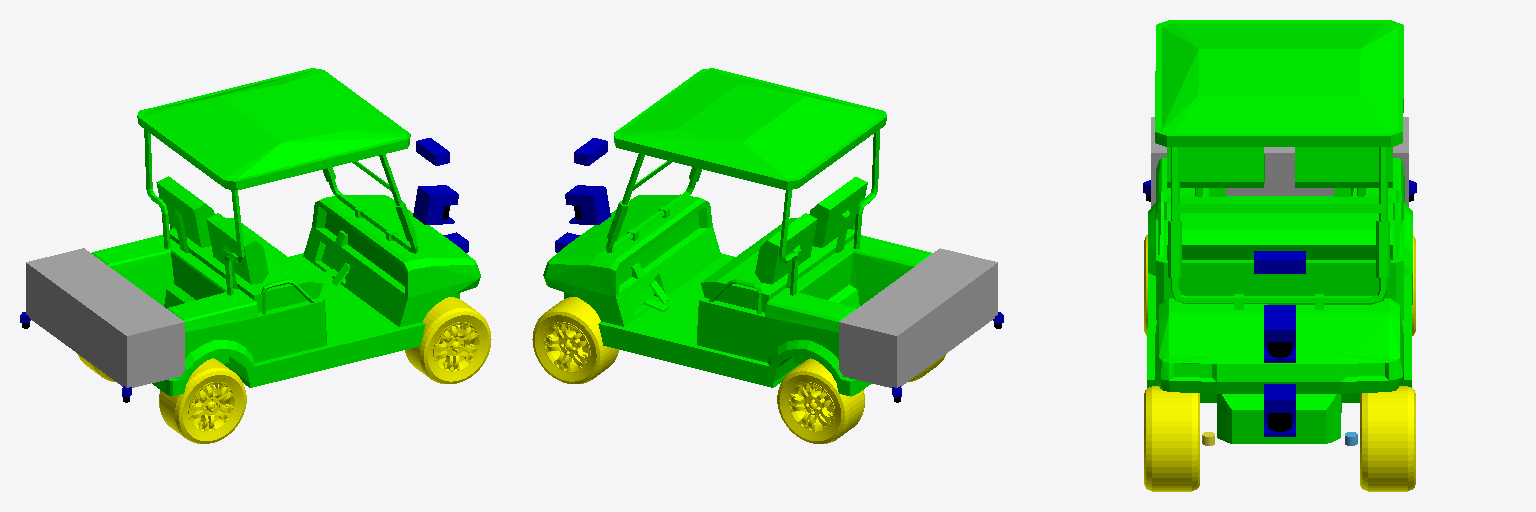
--- Render facts (derived) ---
The picture shows the robot from 3 angles, left to right: view 1: azimuth 30°, elevation 25°; view 2: azimuth 150°, elevation 25°; view 3: azimuth 270°, elevation 25°; orthographic projection.
Robot: CaRINA_I — 27 links, 26 joints (4 revolute, 4 continuous, 18 fixed); root link base_footprint; default pose: every joint at zero.
Links seen in each view (by area): view 1: chassis_1, box_link, front_right_wheel, back_right_wheel, sick_inclined_laser_box02_link, camera_base01_link; view 2: chassis_1, box_link, front_left_wheel, back_left_wheel, sick_inclined_laser_box02_link, camera_base01_link; view 3: chassis_1, front_left_wheel, front_right_wheel, box_link, camera_base01_link, sick_inclined_laser_box02_link, sick_parallel_laser_box02_link.
Boxes of the visible links, x1=… form: chassis_1: x1=91, y1=68, x2=480, y2=395; box_link: x1=26, y1=248, x2=184, y2=387; front_right_wheel: x1=405, y1=297, x2=491, y2=383; back_right_wheel: x1=159, y1=358, x2=246, y2=443; sick_inclined_laser_box02_link: x1=416, y1=185, x2=458, y2=206; camera_base01_link: x1=416, y1=138, x2=449, y2=165; chassis_1: x1=543, y1=68, x2=932, y2=396; box_link: x1=839, y1=248, x2=997, y2=387; front_left_wheel: x1=532, y1=297, x2=618, y2=383; back_left_wheel: x1=777, y1=358, x2=864, y2=443; sick_inclined_laser_box02_link: x1=565, y1=185, x2=607, y2=206; camera_base01_link: x1=574, y1=138, x2=607, y2=165; chassis_1: x1=1147, y1=20, x2=1412, y2=443; front_left_wheel: x1=1360, y1=386, x2=1415, y2=491; front_right_wheel: x1=1144, y1=386, x2=1199, y2=491; box_link: x1=1151, y1=117, x2=1408, y2=206; camera_base01_link: x1=1254, y1=251, x2=1305, y2=273; sick_inclined_laser_box02_link: x1=1264, y1=305, x2=1295, y2=341; sick_parallel_laser_box02_link: x1=1264, y1=384, x2=1295, y2=412.
Bounding box of the posed robot: 2.69 × 1.27 × 1.74 m (x, y, z).
5 mesh visuals loaded from 2 distinct referenced files (2 Collada DAE).

robot.urdf — CaRINA_I:
<?xml version="1.0" ?>

<robot
	name="CaRINA_I"
	xmlns:xi="http://www.w3.org/2001/XInclude"
	xmlns:gazebo="http://playerstage.sourceforge.net/gazebo/xmlschema/#gz"
	xmlns:model="http://playerstage.sourceforge.net/gazebo/xmlschema/#model"
	xmlns:sensor="http://playerstage.sourceforge.net/gazebo/xmlschema/#sensor"
	xmlns:body="http://playerstage.sourceforge.net/gazebo/xmlschema/#body"
	xmlns:geom="http://playerstage.sourceforge.net/gazebo/xmlschema/#geom"
	xmlns:joint="http://playerstage.sourceforge.net/gazebo/xmlschema/#joint"
	xmlns:interface="http://playerstage.sourceforge.net/gazebo/xmlschema/#interface"
	xmlns:rendering="http://playerstage.sourceforge.net/gazebo/xmlschema/#rendering"
	xmlns:renderable="http://playerstage.sourceforge.net/gazebo/xmlschema/#renderable"
	xmlns:controller="http://playerstage.sourceforge.net/gazebo/xmlschema/#controller"
	xmlns:physics="http://playerstage.sourceforge.net/gazebo/xmlschema/#physics"
>


	<!-- Included URDF Files -->
	<material name="Car">
		<color rgba="0.0 1.0 0.0 1.0" />
	<!-- 
		<texture filename="package://carina_description/meshes/collada/golfcar/tire.bmp" />
	 -->
	</material>
	<material name="Roda">
		<color rgba="1.0 1.0 0.0 1.0" />
	<!-- 
		<texture filename="package://carina_description/meshes/collada/golfcar/tire.bmp" />
	 -->
	</material>
	<material name="Black">
		<color rgba="0.0 0.0 0.0 1.0" />
	</material>
	<material name="Blue">
		<color rgba="0.0 0.0 0.8 1.0" />
	</material>
	<material name="Green">
		<color rgba="0.0 0.3 0.02 1.0" />
	</material>
	<material name="Grey">
		<color rgba="0.7 0.7 0.7 1.0" />
	</material>
	<material name="Grey2">
		<color rgba="0.2 0.2 0.2 1.0" />
	</material>
	<material name="Red">
		<color rgba="0.8 0.0 0.0 1.0" />
	</material>
	<material name="White">
		<color rgba="1.0 1.0 1.0 1.0" />
	</material>
	<material name="Yellow">
		<color rgba="0.299999 0.2777 0 1.0" />
	</material>

	<link name="base_footprint">
		<!-- 
		<inertial>
			<mass value="0.0001" />
			<origin xyz="0 0 0" />
			<inertia
				ixx="0.0001"
				ixy="0.0"
				ixz="0.0"
				iyy="0.0001"
				iyz="0.0"
				izz="0.0001" />
		</inertial>
		<visual>
			<origin
				rpy="0 0 0"
				xyz="0 0 0" />
			<geometry>
				<box size="0.001 0.001 0.001" />
			</geometry>
			<material name="Green" />
		</visual>
		<collision>
			<origin
				rpy="0 0 0"
				xyz="0 0 0.0" />
			<geometry>
				<box size="0.001 0.001 0.001" />
			</geometry>
		</collision>
		 -->
	</link>

	<link name="box_link">
		<inertial>
			<mass value="0.1" />
			<origin xyz="0 0 0.0" />
			<inertia
				ixx="0.1"
				ixy="0"
				ixz="0"
				iyy="0.1"
				iyz="0"
				izz="0.1" />
		</inertial>
		<visual>
			<origin
				rpy="0 0 0"
				xyz="0 0 0" />
			<geometry>
			<!-- 
				<mesh
					filename="package://carina_description/meshes/collada/golfcar/caixa.obj"
					scale="1 1 1" />
			-->
				<box size="0.4 1.2 0.35" />
			</geometry>
			<material name="Grey" />
		</visual>
		<collision>
			<origin
				rpy="0 0 0"
				xyz="0 0 0" />
			<geometry>
				<box size="0.4 1.2 0.35" />
			</geometry>
		</collision>
	</link>
	
	<joint
		name="base_link_box_joint"
		type="fixed"
	>
		<origin
			rpy="0 0 0"
			xyz="-1.05 0 -0.08" />
		<parent link="base_link" />
		<child link="box_link" />
	</joint>
	
	<link name="base_odometry">
	<!-- 
		<inertial>
			<mass value="0.0001" />
			<origin xyz="0 0 0" />
			<inertia
				ixx="0.0001"
				ixy="0.0"
				ixz="0.0"
				iyy="0.0001"
				iyz="0.0"
				izz="0.0001" />
		</inertial>
		<visual>
			<origin
				rpy="0 0 0"
				xyz="0 0 0" />
			<geometry>
				<box size="0.001 0.001 0.001" />
			</geometry>
			<material name="Green" />
		</visual>
		<collision>
			<origin
				rpy="0 0 0"
				xyz="0 0 0.0" />
			<geometry>
				<box size="0.001 0.001 0.001" />
			</geometry>
		</collision>
	 -->
	</link>

	<!-- encoder roda direita -->
	<joint
		name="base_odometry_joint"
		type="fixed"
	>
		<origin
			rpy="0 0 0"
			xyz="-0.67 0 -0.7" />
		<parent link="base_link" />
		<child link="base_odometry" />
	</joint>

	<joint
		name="base_footprint_joint"
		type="fixed"
	>
		<origin
			rpy="0 0 0"
			xyz="0 0 0.745" />
		<parent link="base_footprint" />
		<child link="base_link" />
	</joint>

	<!--CarinaBase -->
	<link name="base_link">
		<inertial>
			<mass value="0.001" />
			<origin xyz="0 0 0" />
			<inertia
				ixx="0.0001"
				ixy="0.0"
				ixz="0.0"
				iyy="0.0001"
				iyz="0.0"
				izz="0.0001" />
		</inertial>
		<!-- 
		<visual>
			<origin
				rpy="0 0 0"
				xyz="0 0 0" />
			<geometry>
				<box size="0.001 0.001 0.001" />
			</geometry>
			<material name="Green" />
		</visual>
		<collision>
			<origin
				rpy="0 0 0"
				xyz="0 0 0" />
			<geometry>
				<box size="0.001 0.001 0.001" />
			</geometry>
		</collision>
		 -->
	</link>

	<joint
		name="chassis_1_joint"
		type="fixed"
	>
		<origin
			xyz="0.15 0 0.28"
			rpy="0 0 0" />
		<parent link="base_link" />
		<child link="chassis_1" />
	</joint>

	<link name="chassis_1">
		<inertial>
			<mass value="20" />
			<origin xyz="0 0 0" />
			<inertia
				ixx="1.0"
				ixy="0.0"
				ixz="0.0"
				iyy="1.0"
				iyz="0.0"
				izz="1.0" />
		</inertial>

		<visual>
			<origin
				xyz="0 0 0"
				rpy="0 0 0" />
			<geometry>
				<mesh
					filename="package://carina_description/meshes/collada/golfcar/golfcar.dae"
					scale="0.85 0.9 0.85" />
			</geometry>
			<material name="Car" />
		</visual>

		<collision>
			<origin
				xyz="0 0 0"
				rpy="0 0 0" />
			<geometry>
				<mesh
					filename="package://carina_description/meshes/collada/golfcar/golfcar.dae"
					scale="0.85 0.9 0.85" />
			</geometry>
		</collision>
	</link>

	<!-- ################ WHEELS ################# -->

	<!-- DIRECTION BACK LEFT -->
	<!-- =========================== -->

	<link name="back_left_wheel_dir">
		<inertial>
			<mass value="0.1" />
			<!-- center of mass (com) is defined w.r.t. link local coord system -->
			<origin xyz="0 0 0" />
			<inertia
				ixx="0.01"
				ixy="0.0"
				ixz="0.0"
				iyy="0.01"
				iyz="0.0"
				izz="0.01" />
		</inertial>
		<visual>
			<origin
				xyz="0 0 0"
				rpy="0 0 0" />
			<geometry>
				<cylinder
					radius="0.03"
					length="0.045" />

			</geometry>
		</visual>
		<collision>		
			<origin
				xyz="0 0 0"
				rpy="0 0 0 " />
			<geometry>
				<cylinder
					radius="0.03"
					length="0.045" />
			</geometry>
		</collision>
	</link>

	<joint
		name="joint_back_left_wheel_dir"
		type="revolute"
	>
		<parent link="base_link" />
		<child link="back_left_wheel_dir" />
		<origin
			xyz="-0.67 0.33 -0.5"
			rpy="0 0 0" />
		<axis
			xyz="0 0 1"
			rpy="0 0 0" />
		<limit
			effort="3.0"
			velocity="3.0"
			lower="-0.0"
			upper="0.0" />
	</joint>

	<transmission
		name="joint_blw_trans_dir"
		type="pr2_mechanism_model/SimpleTransmission"
	>
		<actuator name="joint_blw_motor_dir" />
		<joint name="joint_back_left_wheel_dir" />
		<mechanicalReduction>1</mechanicalReduction>
		<motorTorqueConstant>1</motorTorqueConstant>
	</transmission>

	<!-- BACK LEFT WHEEL -->
	<link name="back_left_wheel">
		<inertial>
			<mass value="5.0" />
			<origin xyz="0 0 0" />
			<inertia
				ixx="0.0027"
				ixy="0.0"
				ixz="0.0"
				iyy="0.0039"
				iyz="0.0"
				izz="0.0027" />
		</inertial>
		<visual>

			<origin
				xyz="0 0 0"
				rpy="0 0 3.14159" />
			<geometry>
				<!-- 
				<mesh
					filename="package://carina_description/meshes/collada/golfcar/wheel.stl"
					scale="2.6 2 2.6" />
				-->
				<mesh
					filename="package://carina_description/meshes/collada/golfcar/roda.dae"
					scale="0.63 0.88 0.63" />
			</geometry>
			<material name="Roda" />
		</visual>
		<collision>
			<origin
				xyz="0 -0.075 0"
				rpy="1.57 0 0 " />
			<geometry>
				<cylinder
					radius="0.24"
					length="0.24" />
			</geometry>
		</collision>
	</link>

	<joint
		name="joint_back_left_wheel"
		type="continuous"
	>
		<parent link="back_left_wheel_dir" />
		<child link="back_left_wheel" />
		<origin
			xyz="0.0 0.17 0"
			rpy="0 0 0" />
		<axis
			xyz="0 1 0"
			rpy="0 0 0" />
		<limit
			effort="100"
			velocity="100" />
		<joint_properties
			damping="0.0"
			friction="0.0" />
	</joint>

	<transmission
		name="joint_blw_trans"
		type="pr2_mechanism_model/SimpleTransmission"
	>
		<actuator name="joint_blw_motor" />
		<joint name="joint_back_left_wheel" />
		<mechanicalReduction>1</mechanicalReduction>
		<motorTorqueConstant>1</motorTorqueConstant>
	</transmission>

	<!-- DIRECTION BACK RIGHT -->
	<!-- =========================== -->

	<link name="back_right_wheel_dir">
		<inertial>
			<mass value="0.1" />
			<origin xyz="0 0 0" />
			<inertia
				ixx="0.01"
				ixy="0.0"
				ixz="0.0"
				iyy="0.01"
				iyz="0.0"
				izz="0.01" />
		</inertial>
		<visual>
			<cylinder
				radius="0.03"
				length="0.045" />

			<geometry>
				<cylinder
					radius="0.03"
					length="0.045" />

			</geometry>
		</visual>
		<collision>
			<origin
				xyz="0 0 0"
				rpy="0 0 0 " />
			<geometry>
				<cylinder
					radius="0.03"
					length="0.045" />
			</geometry>
		</collision>
	</link>

	<joint
		name="joint_back_right_wheel_dir"
		type="revolute"
	>
		<parent link="base_link" />
		<child link="back_right_wheel_dir" />
		<origin
			xyz="-0.67 -0.33 -0.5"
			rpy="0 0 0" />
		<axis
			xyz="0 0 1"
			rpy="0 0 0" />
		<limit
			effort="3.0"
			velocity="3.0"
			lower="-0.0"
			upper="0.0" />
	</joint>

	<transmission
		name="joint_brw_trans_dir"
		type="pr2_mechanism_model/SimpleTransmission"
	>
		<actuator name="joint_brw_motor_dir" />
		<joint name="joint_back_right_wheel_dir" />
		<mechanicalReduction>1</mechanicalReduction>
		<motorTorqueConstant>1</motorTorqueConstant>
	</transmission>

	<!-- BACK RIGHT WHEEL -->
	<link name="back_right_wheel">
		<inertial>
			<mass value="5.0" />
			<origin xyz="0 0 0" />
			<inertia
				ixx="0.0027"
				ixy="0.0"
				ixz="0.0"
				iyy="0.0039"
				iyz="0.0"
				izz="0.0027" />
		</inertial>
		<visual>
			<origin
				xyz="0 0 0"
				rpy="0 0 0" />
			<geometry>
				<!-- 
				<cylinder
					radius="0.24"
					length="0.10" />
				<mesh filename="package://carina_description/meshes/collada/golfcar/wheel.stl" scale="2.6 2 2.6"/> 
				-->
				<mesh
					filename="package://carina_description/meshes/collada/golfcar/roda.dae"
					scale="0.63 0.88 0.63" />
			</geometry>
			<material name="Roda" />
		</visual>
		<collision>
			<origin
				xyz="0 0.075 0"
				rpy="1.57 0 0 " />
			<geometry>
				<cylinder
					radius="0.24"
					length="0.24" />
			</geometry>
		</collision>
	</link>

	<joint
		name="joint_back_right_wheel"
		type="continuous"
	>
		<parent link="back_right_wheel_dir" />
		<child link="back_right_wheel" />
		<origin
			xyz="0.0 -0.17 0"
			rpy="0 0 0" />
		<axis
			xyz="0 1 0"
			rpy="0 0 0" />
		<limit
			effort="100"
			velocity="100" />
		<joint_properties
			damping="0.0"
			friction="0.0" />
	</joint>

	<transmission
		name="joint_brw_trans"
		type="pr2_mechanism_model/SimpleTransmission"
	>
		<actuator name="joint_brw_motor" />
		<joint name="joint_back_right_wheel" />
		<mechanicalReduction>1</mechanicalReduction>
		<motorTorqueConstant>1</motorTorqueConstant>
	</transmission>

	<!-- DIRECTION FORWARD LEFT -->
	<!-- =========================== -->

	<link name="front_left_wheel_dir">
		<inertial>
			<mass value="0.1" />
			<origin xyz="0 0 0" />
			<inertia
				ixx="0.01"
				ixy="0.0"
				ixz="0.0"
				iyy="0.01"
				iyz="0.0"
				izz="0.01" />
		</inertial>
		<visual>
			<origin
				xyz="0 0 0"
				rpy="0 0 0" />
			<geometry>
				<cylinder
					radius="0.03"
					length="0.045" />
			</geometry>
		</visual>
		<collision>
			<origin
				xyz="0 0 0"
				rpy="0 0 0 " />
			<geometry>
				<cylinder
					radius="0.03"
					length="0.045" />
				>
			</geometry>
		</collision>
	</link>

	<joint
		name="joint_front_left_wheel_dir"
		type="revolute"
	>
		<parent link="base_link" />
		<child link="front_left_wheel_dir" />
		<origin
			xyz="1.01 0.33 -0.5"
			rpy="0 0 0" />
		<axis
			xyz="0 0 1"
			rpy="0 0 0" />
		<limit
			effort="3.0"
			velocity="3.0"
			lower="-0.5233"
			upper="0.5233" />
	</joint>

	<transmission
		name="joint_flw_trans_dir"
		type="pr2_mechanism_model/SimpleTransmission"
	>
		<actuator name="joint_flw_motor_dir" />
		<joint name="joint_front_left_wheel_dir" />
		<mechanicalReduction>1</mechanicalReduction>
		<motorTorqueConstant>1</motorTorqueConstant>
	</transmission>

	<!-- FRONT LEFT WHEEL (GREY) -->
	<link name="front_left_wheel">

		<inertial>
			<mass value="5.0" />
			<origin xyz="0 0 0" />

			<inertia
				ixx="0.0027"
				ixy="0.0"
				ixz="0.0"
				iyy="0.0039"
				iyz="0.0"
				izz="0.0027" />
		</inertial>
		<visual>
			<origin
				xyz="0 0 0"
				rpy="0 0 3.14159" />
			<geometry>
				<!-- <cylinder radius="0.24" length="0.24"/> 
				<mesh
					filename="package://carina_description/meshes/collada/golfcar/wheel.stl"
					scale="2.6 2 2.6" />
				-->
				<mesh
					filename="package://carina_description/meshes/collada/golfcar/roda.dae"
					scale="0.63 0.88 0.63" />
			</geometry>
			<material name="Roda" />
		</visual>
		<collision>
			<origin
				xyz="0 -0.075 0"
				rpy="1.57 0 0 " />
			<geometry>
				<cylinder
					radius="0.24"
					length="0.24" />
			</geometry>
		</collision>

	</link>

	<joint
		name="joint_front_left_wheel"
		type="continuous"
	>
		<parent link="front_left_wheel_dir" />
		<child link="front_left_wheel" />
		<origin
			xyz="0.0 0.17 0.0"
			rpy="0 0 0" />
		<axis xyz="0 1 0" />
		<limit
			effort="100"
			velocity="100" />
		<joint_properties
			damping="0.0"
			friction="0.0" />
	</joint>

	<transmission
		name="joint_flw_trans"
		type="pr2_mechanism_model/SimpleTransmission"
	>
		<actuator name="joint_flw_motor" />
		<joint name="joint_front_left_wheel" />
		<mechanicalReduction>1</mechanicalReduction>
		<motorTorqueConstant>1</motorTorqueConstant>
	</transmission>

	<!-- DIRECTION FORWARD RIGHT -->
	<!-- =========================== -->

	<!-- <link name="front_right_wheel_dir"> -->
	<link name="front_right_wheel_dir">

		<inertial>
			<mass value="0.1" />
			<origin xyz="0 0 0" />
			<inertia
				ixx="0.01"
				ixy="0.0"
				ixz="0.0"
				iyy="0.01"
				iyz="0.0"
				izz="0.01" />
		</inertial>
		<visual>
			<origin
				xyz="0 0 0"
				rpy="0 0 0" />
			<geometry>
				<cylinder
					radius="0.03"
					length="0.045" />
			</geometry>
		</visual>
		<collision>
			<origin
				xyz="0 0 0"
				rpy="0 0 0 " />
			<geometry>
				<cylinder
					radius="0.03"
					length="0.045" />
			</geometry>
		</collision>
	</link>

	<joint
		name="joint_front_right_wheel_dir"
		type="revolute"
	>
		<parent link="base_link" />
		<child link="front_right_wheel_dir" />
		<origin
			xyz="1.01 -0.33 -0.5"
			rpy="0 0 0" />
		<axis xyz="0 0 1" />
		<limit
			effort="3.0"
			velocity="3.0"
			lower="-0.5233"
			upper="0.5233" />
	</joint>

	<transmission
		name="joint_frw_trans_dir"
		type="pr2_mechanism_model/SimpleTransmission"
	>
		<actuator name="joint_frw_motor_dir" />
		<joint name="joint_front_right_wheel_dir" />
		<mechanicalReduction>1</mechanicalReduction>
		<motorTorqueConstant>1</motorTorqueConstant>
	</transmission>

	<!-- FRONT RIGHT WHEEL (GREY) -->
	<link name="front_right_wheel">

		<inertial>
			<mass value="5.0" />
			<origin xyz="0 0 0" />
			<inertia
				ixx="0.0027"
				ixy="0.0"
				ixz="0.0"
				iyy="0.0039"
				iyz="0.0"
				izz="0.0027" />
		</inertial>
		<visual>
			<origin
				xyz="0 0 0"
				rpy="0 0 0" />
			<geometry>
				<!-- <cylinder radius="0.24" length="0.24"/> -->
				<!-- 
				<mesh
					filename="package://carina_description/meshes/collada/golfcar/wheel.stl"
					scale="2.6 2 2.6" />
				<mesh
					filename="package://carina_description/meshes/collada/golfcar/rodinha.dae"
					scale="1 1 1" />
				 -->
				 <mesh
					filename="package://carina_description/meshes/collada/golfcar/roda.dae"
					scale="0.63 0.88 0.63" />
			</geometry>
			<material name="Roda" />
		</visual>
		<collision>
			<origin
				xyz="0 0.075 0"
				rpy="1.57 0 0" />
			<geometry>
				<cylinder
					radius="0.24"
					length="0.24" />
			</geometry>
		</collision>
	</link>

	<joint
		name="joint_front_right_wheel"
		type="continuous"
	>
		<parent link="front_right_wheel_dir" />
		<child link="front_right_wheel" />
		<origin
			xyz="0.0 -0.17 0.0"
			rpy="0 0 0" />
		<axis xyz="0 1 0" />
		<limit
			effort="100"
			velocity="100" />
		<joint_properties
			damping="0.0"
			friction="0.0" />
	</joint>

	<transmission
		name="joint_frw_trans"
		type="pr2_mechanism_model/SimpleTransmission"
	>
		<actuator name="joint_frw_motor" />
		<joint name="joint_front_right_wheel" />
		<mechanicalReduction>1</mechanicalReduction>
		<motorTorqueConstant>1</motorTorqueConstant>
	</transmission>

	<!-- LASERS -->
	<!-- SICK SENSOR PARALLEL -->

	<joint
		name="sick_parallel_laser_joint"
		type="fixed"
	>
		<axis xyz="0 1 0" />
		<origin
			rpy="0 0 0"
			xyz="1.34 0 -0.24" />
		<parent link="base_link" />
		<child link="sick_parallel_laser_link" />
	</joint>

	<link
		name="sick_parallel_laser_link"
		type="laser"
	>
		<inertial>
			<mass value="0.001" />
			<origin
				xyz="0 0 0"
				rpy="0 0 0" />
			<inertia
				ixx="0.0001"
				ixy="0"
				ixz="0"
				iyy="0.000001"
				iyz="0"
				izz="0.0001" />
		</inertial>

		<visual>
			<origin
				rpy="0 0 0"
				xyz="0.0 0 0" />
			<geometry>
				<cylinder
					length="0.12"
					radius="0.055" />
			</geometry>
			<material name="Black" />
		</visual>
		<collision>
			<origin
				rpy="0 0 0"
				xyz="0.0 0 0" />
			<geometry>
				<cylinder
					length="0.0"
					radius="0.0" />
			</geometry>
		</collision>
	</link>

	<joint
		name="sick_parallel_laser_box_joint"
		type="fixed"
	>
		<origin
			rpy="0 0 0"
			xyz="-0.08 0 0" />
		<parent link="sick_parallel_laser_link" />
		<child link="sick_parallel_laser_box01_link" />
	</joint>

	<link
		name="sick_parallel_laser_box01_link"
		type="fixed"
	>
		<inertial>
			<mass value="0.1" />
			<origin xyz="0 0 0.0" />
			<inertia
				ixx="0.1"
				ixy="0"
				ixz="0"
				iyy="0.1"
				iyz="0"
				izz="0.1" />
		</inertial>
		<visual>
			<origin
				rpy="0 0 0"
				xyz="0 0 0" />
			<geometry>
				<box size="0.11 0.15 0.11" />
			</geometry>
			<material name="Blue" />
		</visual>
		<collision>
			<origin
				rpy="0 0 0"
				xyz="0 0 0" />
			<geometry>
				<box size="0.11 0.15 0.11" />
			</geometry>
		</collision>
	</link>

	<joint
		name="spl_box01_box02_joint"
		type="fixed"
	>
		<origin
			rpy="0 0 0"
			xyz="0 0 0" />
		<parent link="sick_parallel_laser_box01_link" />
		<child link="sick_parallel_laser_box02_link" />
	</joint>

	<link
		name="sick_parallel_laser_box02_link"
		type="fixed"
	>
		<inertial>
			<mass value="0.1" />
			<origin xyz="0 0 0.0" />
			<inertia
				ixx="0.1"
				ixy="0"
				ixz="0"
				iyy="0.1"
				iyz="0"
				izz="0.1" />
		</inertial>
		<visual>
			<origin
				rpy="0 0 0"
				xyz="0.045 0 0.09" />
			<geometry>
				<box size="0.2 0.15 0.07" />
			</geometry>
			<material name="Blue" />
		</visual>

		<collision>
			<origin
				rpy="0 0 0"
				xyz="0.045 0 0.09" />
			<geometry>
				<box size="0.2 0.15 0.07" />
			</geometry>
		</collision>
	</link>

	<joint
		name="spl_box01_box03_joint"
		type="fixed"
	>
		<origin
			rpy="0 0 0"
			xyz="0 0 0" />
		<parent link="sick_parallel_laser_box01_link" />
		<child link="sick_parallel_laser_box03_link" />
	</joint>

	<link
		name="sick_parallel_laser_box03_link"
		type="fixed"
	>
		<inertial>
			<mass value="0.1" />
			<origin xyz="0 0 0.0" />
			<inertia
				ixx="0.1"
				ixy="0"
				ixz="0"
				iyy="0.1"
				iyz="0"
				izz="0.1" />
		</inertial>
		<visual>
			<origin
				rpy="0 0 0"
				xyz="0.045 0 -0.055" />
			<geometry>
				<box size="0.2 0.15 0.02" />
			</geometry>
			<material name="Blue" />
		</visual>

		<collision>
			<origin
				rpy="0 0 0"
				xyz="0.045 0 -0.055" />
			<geometry>
				<box size="0.2 0.15 0.02" />
			</geometry>
		</collision>
	</link>

	<!-- SICK SENSOR INCLINED -->

	<joint
		name="sick_inclined_laser_joint"
		type="fixed"
	>
		<axis xyz="0 1 0" />
		<origin
			rpy="0 0.18 0"
			xyz="1.25 0 0.1" />
		<parent link="base_link" />
		<child link="sick_inclined_laser_link" />
	</joint>

	<link
		name="sick_inclined_laser_link"
		type="laser"
	>
		<inertial>
			<mass value="0.001" />
			<origin
				xyz="0 0 0"
				rpy="0 0 0" />
			<inertia
				ixx="0.0001"
				ixy="0"
				ixz="0"
				iyy="0.000001"
				iyz="0"
				izz="0.0001" />
		</inertial>

		<visual>
			<origin
				rpy="0 0 0"
				xyz="0.0 0 0" />
			<geometry>
				<cylinder
					length="0.12"
					radius="0.055" />
			</geometry>
			<material name="Black" />
		</visual>
		<collision>
			<origin
				rpy="0 0 0"
				xyz="0.0 0 0" />
			<geometry>
				<cylinder
					length="0.0"
					radius="0.0" />
			</geometry>
		</collision>

	</link>

	<joint
		name="sick_inclined_laser_box_joint"
		type="fixed"
	>
		<origin
			rpy="0 0 0"
			xyz="-0.08 0 0" />
		<parent link="sick_inclined_laser_link" />
		<child link="sick_inclined_laser_box01_link" />
	</joint>

	<link
		name="sick_inclined_laser_box01_link"
		type="fixed"
	>
		<inertial>
			<mass value="0.1" />
			<origin xyz="0 0 0.0" />
			<inertia
				ixx="0.1"
				ixy="0"
				ixz="0"
				iyy="0.1"
				iyz="0"
				izz="0.1" />
		</inertial>
		<visual>
			<origin
				rpy="0 0 0"
				xyz="0 0 0" />
			<geometry>
				<box size="0.11 0.15 0.11" />
			</geometry>
			<material name="Blue" />
		</visual>
		<collision>
			<origin
				rpy="0 0 0"
				xyz="0 0 0" />
			<geometry>
				<box size="0.11 0.15 0.11" />
			</geometry>
		</collision>
	</link>

	<joint
		name="sil_box01_box02_joint"
		type="fixed"
	>
		<origin
			rpy="0 0 0"
			xyz="0 0 0" />
		<parent link="sick_inclined_laser_box01_link" />
		<child link="sick_inclined_laser_box02_link" />
	</joint>

	<link
		name="sick_inclined_laser_box02_link"
		type="fixed"
	>
		<inertial>
			<mass value="0.1" />
			<origin xyz="0 0 0.0" />
			<inertia
				ixx="0.1"
				ixy="0"
				ixz="0"
				iyy="0.1"
				iyz="0"
				izz="0.1" />
		</inertial>
		<visual>
			<origin
				rpy="0 0 0"
				xyz="0.045 0 0.09" />
			<geometry>
				<box size="0.2 0.15 0.07" />
			</geometry>
			<material name="Blue" />
		</visual>

		<collision>
			<origin
				rpy="0 0 0"
				xyz="0.045 0 0.09" />
			<geometry>
				<box size="0.2 0.15 0.07" />
			</geometry>
		</collision>
	</link>

	<joint
		name="sil_box01_box03_joint"
		type="fixed"
	>
		<origin
			rpy="0 0 0"
			xyz="0 0 0" />
		<parent link="sick_inclined_laser_box01_link" />
		<child link="sick_inclined_laser_box03_link" />
	</joint>

	<link
		name="sick_inclined_laser_box03_link"
		type="fixed"
	>
		<inertial>
			<mass value="0.1" />
			<origin xyz="0 0 0.0" />
			<inertia
				ixx="0.1"
				ixy="0"
				ixz="0"
				iyy="0.1"
				iyz="0"
				izz="0.1" />
		</inertial>
		<visual>
			<origin
				rpy="0 0 0"
				xyz="0.045 0 -0.055" />
			<geometry>
				<box size="0.2 0.15 0.02" />
			</geometry>
			<material name="Blue" />
		</visual>

		<collision>
			<origin
				rpy="0 0 0"
				xyz="0.045 0 -0.055" />
			<geometry>
				<box size="0.2 0.15 0.02" />
			</geometry>
		</collision>
	</link>

	<!-- HOKUYO SENSOR RIGHT -->

	<joint
		name="hokuyo_laser_right_joint"
		type="fixed"
	>
		<axis xyz="0 1 0" />
		<origin
			rpy="3.14 0 -2.33"
			xyz="-1.25 -0.6 -0.3" />
		<parent link="base_link" />
		<child link="hokuyo_laser_right_link" />
	</joint>

	<link
		name="hokuyo_laser_right_link"
		type="laser"
	>
		<inertial>
			<mass value="0.001" />
			<origin
				xyz="0 0 0"
				rpy="0 0 0" />
			<inertia
				ixx="0.0001"
				ixy="0"
				ixz="0"
				iyy="0.000001"
				iyz="0"
				izz="0.0001" />
		</inertial>

		<visual>
			<origin
				rpy="0 0 0"
				xyz="0 0 0" />
			<geometry>
				<cylinder
					length="0.06"
					radius="0.0229" />
			</geometry>
			<material name="Black" />
		</visual>
		<collision>
			<origin
				rpy="0 0 0"
				xyz="0 0 0" />
			<geometry>
				<cylinder
					length="0.0"
					radius="0.0" />
			</geometry>
		</collision>

	</link>

	<joint
		name="hlr_box_joint"
		type="fixed"
	>
		<origin
			rpy="0 0 0"
			xyz="0 0 -0.03" />
		<parent link="hokuyo_laser_right_link" />
		<child link="hokuyo_laser_right_box_link" />
	</joint>

	<link
		name="hokuyo_laser_right_box_link"
		type="fixed"
	>
		<inertial>
			<mass value="0.1" />
			<origin xyz="0 0 0.0" />
			<inertia
				ixx="0.1"
				ixy="0"
				ixz="0"
				iyy="0.1"
				iyz="0"
				izz="0.1" />
		</inertial>
		<visual>
			<origin
				rpy="0 0 0"
				xyz="0 0 0" />
			<geometry>
				<box size="0.05 0.05 0.05" />
			</geometry>
			<material name="Blue" />
		</visual>
		<collision>
			<origin
				rpy="0 0 0"
				xyz="0 0 0" />
			<geometry>
				<box size="0.05 0.05 0.05" />
			</geometry>
		</collision>
	</link>

	<!-- HOKUYO SENSOR LEFT -->

	<joint
		name="hokuyo_laser_left_joint"
		type="fixed"
	>
		<axis xyz="0 1 0" />
		<origin
			rpy="3.14 0 2.33"
			xyz="-1.25 0.6 -0.3" />
		<parent link="base_link" />
		<child link="hokuyo_laser_left_link" />
	</joint>

	<link
		name="hokuyo_laser_left_link"
		type="laser"
	>
		<inertial>
			<mass value="0.001" />
			<origin
				xyz="0 0 0"
				rpy="0 0 0" />
			<inertia
				ixx="0.0001"
				ixy="0"
				ixz="0"
				iyy="0.000001"
				iyz="0"
				izz="0.0001" />
		</inertial>

		<visual>
			<origin
				rpy="0 0 0"
				xyz="0 0 0" />
			<geometry>
				<cylinder
					length="0.06"
					radius="0.0229" />
			</geometry>
			<material name="Black" />
		</visual>
		<collision>
			<origin
				rpy="0 0 0"
				xyz="0 0 0" />
			<geometry>
				<cylinder
					length="0.0"
					radius="0.0" />
			</geometry>
		</collision>
	</link>

	<joint
		name="hll_box_joint"
		type="fixed"
	>
		<origin
			rpy="0 0 0"
			xyz="0 0 -0.03" />
		<parent link="hokuyo_laser_left_link" />
		<child link="hokuyo_laser_left_box_link" />
	</joint>

	<link
		name="hokuyo_laser_left_box_link"
		type="fixed"
	>
		<inertial>
			<mass value="0.1" />
			<origin xyz="0 0 0.0" />
			<inertia
				ixx="0.1"
				ixy="0"
				ixz="0"
				iyy="0.1"
				iyz="0"
				izz="0.1" />
		</inertial>
		<visual>
			<origin
				rpy="0 0 0"
				xyz="0 0 0" />
			<geometry>
				<box size="0.05 0.05 0.05" />
			</geometry>
			<material name="Blue" />
		</visual>
		<collision>
			<origin
				rpy="0 0 0"
				xyz="0 0 0" />
			<geometry>
				<box size="0.05 0.05 0.05" />
			</geometry>
		</collision>
	</link>

	<!--Camera frontal -->
	<joint
		name="camera_base01_mount_joint"
		type="fixed"
	>
		<origin
			rpy="0 0 0"
			xyz="1.2 0 0.49" />
		<parent link="base_link" />
		<child link="camera_base01_link" />
	</joint>

	<link
		name="camera_base01_link"
		type="fixed"
	>
		<inertial>
			<mass value="0.1" />
			<origin xyz="0 0 0.0" />
			<inertia
				ixx="0.1"
				ixy="0"
				ixz="0"
				iyy="0.1"
				iyz="0"
				izz="0.1" />
		</inertial>
		<visual>
			<origin
				rpy="0 0 0"
				xyz="0 0 0" />
			<geometry>
				<box size="0.10 0.24 0.07" />
			</geometry>
			<material name="Blue" />
		</visual>
		<collision>
			<origin
				rpy="0 0 0"
				xyz="0 0 0" />
			<geometry>
				<box size="0.10 0.24 0.07" />
			</geometry>
		</collision>
	</link>

	<!-- IMU SENSOR -->
	<joint
		name="imu_joint"
		type="fixed"
	>
		<axis xyz="1 0 0" /> <!-- 0 1 0 -->
		<origin xyz="-0.67 0 0.3" />
		<parent link="base_link" />
		<child link="imu_link" />
	</joint>

	<link name="imu_link">
		<inertial>
			<mass value="0.001" />
			<origin
				rpy="0 0 0"
				xyz="0 0 0" />
			<inertia
				ixx="0.0001"
				ixy="0"
				ixz="0"
				iyy="0.000001"
				iyz="0"
				izz="0.0001" />
		</inertial>
		<visual>
			<origin
				rpy="0 0 0"
				xyz="0 0 0" />
			<geometry>
				<box size="0.001 0.001 0.001" />
			</geometry>
		</visual>
		<collision>
			<origin
				rpy="0 0 0"
				xyz="0 0 0" />
			<geometry>
				<box size=".001 .001 .001" />
			</geometry>
		</collision>
	</link>

	<!-- GAZEBO -->

	<!-- camera -->
	<gazebo reference="camera_base01_link">
		<material>Gazebo/Whith</material>
		<turnGravityOff>false</turnGravityOff>
	</gazebo>

	<!-- sick -->
	<gazebo reference="sick_inclined_laser_box01_link">
		<material>Gazebo/Blue</material>
		<turnGravityOff>false</turnGravityOff>
	</gazebo>
	<gazebo reference="sick_inclined_laser_box02_link">
		<material>Gazebo/Blue</material>
		<turnGravityOff>false</turnGravityOff>
	</gazebo>
	<gazebo reference="sick_parallel_laser_box03_link">
		<material>Gazebo/Blue</material>
		<turnGravityOff>false</turnGravityOff>
	</gazebo>
	<gazebo reference="sick_inclined_laser_link">
		<material>Gazebo/Black</material>
		<turnGravityOff>false</turnGravityOff>
	</gazebo>
	<gazebo reference="sick_parallel_laser_box01_link">
		<material>Gazebo/Blue</material>
		<turnGravityOff>false</turnGravityOff>
	</gazebo>
	<gazebo reference="sick_parallel_laser_box02_link">
		<material>Gazebo/Blue</material>
		<turnGravityOff>false</turnGravityOff>
	</gazebo>
	<gazebo reference="sick_parallel_laser_box03_link">
		<material>Gazebo/Blue</material>
		<turnGravityOff>false</turnGravityOff>
	</gazebo>
	<gazebo reference="sick_parallel_laser_link">
		<material>Gazebo/Black</material>
		<turnGravityOff>false</turnGravityOff>
	</gazebo>

	<!-- hokuyo -->
	<gazebo reference="hokuyo_laser_right_link">
		<material>Gazebo/Blue</material>
		<turnGravityOff>false</turnGravityOff>
	</gazebo>
	<gazebo reference="hokuyo_laser_right_box_link">
		<material>Gazebo/Black</material>
		<turnGravityOff>false</turnGravityOff>
	</gazebo>
	<gazebo reference="hokuyo_laser_left_link">
		<material>Gazebo/Blue</material>
		<turnGravityOff>false</turnGravityOff>
	</gazebo>
	<gazebo reference="hokuyo_laser_left_box_link">
		<material>Gazebo/Black</material>
		<turnGravityOff>false</turnGravityOff>
	</gazebo>

	<!-- wheel -->
	<gazebo reference="front_left_wheel">
		<mu1 value="50.0" /> <!-- 2.0 -->
		<mu2 value="0.5" /> <!-- 0.5 -->
		<fdir1 value="1 0 0" />
		<material>Gazebo/Grey</material>
		<turnGravityOff>false</turnGravityOff>
	</gazebo>
	<gazebo reference="back_left_wheel">
		<mu1 value="50.0" /> <!-- 2.0 -->
		<mu2 value="0.5" /> <!-- 0.5 -->
		<fdir1 value="1 0 0" />
		<material>Gazebo/Grey</material>
		<turnGravityOff>false</turnGravityOff>
	</gazebo>
	<gazebo reference="back_right_wheel">
		<mu1 value="50.0" /> <!-- 2.0 -->
		<mu2 value="0.5" /> <!-- 0.5 -->
		<fdir1 value="1 0 0" />
		<material>Gazebo/Grey</material>
		<turnGravityOff>false</turnGravityOff>
	</gazebo>
	<gazebo reference="front_right_wheel">
		<mu1 value="50.0" /> <!-- 2.0 -->
		<mu2 value="0.5" /> <!-- 0.5 -->
		<fdir1 value="1 0 0" />
		<material>Gazebo/Grey</material>
		<turnGravityOff>false</turnGravityOff>
	</gazebo>

	<!-- wheel dirs -->
	<gazebo reference="back_left_wheel_dir">
		<material>Gazebo/Green</material>
		<turnGravityOff>false</turnGravityOff>
	</gazebo>
	<gazebo reference="back_right_wheel_dir">
		<material>Gazebo/Green</material>
		<turnGravityOff>false</turnGravityOff>
	</gazebo>
	<gazebo reference="front_left_wheel_dir">
		<material>Gazebo/Green</material>
		<turnGravityOff>false</turnGravityOff>
	</gazebo>
	<gazebo reference="front_right_wheel_dir">
		<material>Gazebo/Green</material>
		<turnGravityOff>false</turnGravityOff>
	</gazebo>

	<!-- CONTROLLERS -->
	<!-- Gazebo controllers -->
	<gazebo>
		<controller:gazebo_ros_time
			name="gazebo_ros_time"
			plugin="libgazebo_ros_time.so"
		>
			<alwaysOn>true</alwaysOn>
			<updateRate>1000.0</updateRate>
			<interface:audio name="dummy_gazebo_ros_time_iface_should_not_be_here" />
		</controller:gazebo_ros_time>

		<!-- PR2_ACTARRAY -->
		<controller:gazebo_ros_controller_manager
			name="gazebo_ros_controller_manager"
			plugin="libgazebo_ros_controller_manager.so"
		>
			<alwaysOn>true</alwaysOn>
			<updateRate>1000.0</updateRate>
			<interface:audio name="gazebo_ros_controller_manager_dummy_iface" />
		</controller:gazebo_ros_controller_manager>
	</gazebo>

	<!--controllers (SICK SENSOR PARALLEL) -->

	<gazebo reference="sick_parallel_laser_link">
		<sensor:ray name="sick_parallel_laser">
			<rayCount>640</rayCount>
			<rangeCount>640</rangeCount>
			<laserCount>1</laserCount>

			<origin>0.0 0.0 0.0</origin>
			<displayRays>fan</displayRays>

			<minAngle>-90.0</minAngle>
			<maxAngle>90.0</maxAngle>

			<minRange>0.05</minRange>
			<maxRange>80.1</maxRange>
			<resRange>0.001</resRange>
			<updateRate>10.0</updateRate>
			<controller:gazebo_ros_laser
				name="gazebo_ros_sick_laser_controller"
				plugin="libgazebo_ros_laser.so"
			>
				<gaussianNoise>0.005</gaussianNoise>
				<alwaysOn>true</alwaysOn>
				<updateRate>10.0</updateRate>
				<topicName>scan_front</topicName>
				<!--topicName>base_scan</topicName -->
				<frameName>sick_parallel_laser_link</frameName>
				<interface:laser name="gazebo_ros_sick_laser_iface" />
			</controller:gazebo_ros_laser>
		</sensor:ray>
	</gazebo>

	<!--controllers (SICK SENSOR INCLINED) -->

	<gazebo reference="sick_inclined_laser_link">
		<sensor:ray name="sick_inclined_laser">
			<rayCount>640</rayCount>
			<rangeCount>640</rangeCount>
			<laserCount>1</laserCount>

			<origin>0.0 0.0 0.0</origin>
			<displayRays>fan</displayRays>

			<minAngle>-90.0</minAngle>
			<maxAngle>90.0</maxAngle>

			<minRange>0.05</minRange>
			<!--maxRange>8.1</maxRange -->
			<maxRange>0.01</maxRange>
			<resRange>0.001</resRange>
			<updateRate>10.0</updateRate>
			<controller:gazebo_ros_laser
				name="gazebo_ros_sick_inc_laser_controller"
				plugin="libgazebo_ros_laser.so"
			>
				<gaussianNoise>0.005</gaussianNoise>
				<alwaysOn>true</alwaysOn>
				<updateRate>10.0</updateRate>
				<topicName>scan_inc</topicName>
				<!--topicName>sick_inc_laser_topic</topicName -->
				<frameName>sick_inclined_laser_link</frameName>
				<interface:laser name="gazebo_ros_sick_inc_laser_iface" />
			</controller:gazebo_ros_laser>
		</sensor:ray>
	</gazebo>

	<!--controllers (HOKUYO SENSOR LEFT) -->

	<gazebo reference="hokuyo_laser_left_link">
		<sensor:ray name="hokuyo_laser_left">
			<rayCount>640</rayCount>
			<rangeCount>640</rangeCount>
			<laserCount>1</laserCount>

			<origin>0.0 0.0 0.0</origin>
			<displayRays>fan</displayRays>

			<minAngle>-130.0</minAngle>
			<maxAngle>130.0</maxAngle>

			<minRange>0.05</minRange>
			<maxRange>30.1</maxRange>
			<resRange>0.001</resRange>
			<updateRate>10.0</updateRate>
			<controller:gazebo_ros_laser
				name="gazebo_ros_hokuyo_laser_controller01"
				plugin="libgazebo_ros_laser.so"
			>
				<gaussianNoise>0.005</gaussianNoise>
				<alwaysOn>true</alwaysOn>
				<updateRate>10.0</updateRate>
				<!--topicName>hokuyo_laser_left_topic</topicName -->
				<topicName>scan_rear1</topicName>
				<frameName>hokuyo_laser_left_link</frameName>
				<interface:laser name="gazebo_ros_hokuyo_laser_iface01" />
			</controller:gazebo_ros_laser>
		</sensor:ray>
	</gazebo>

	<!--controllers (HOKUYO SENSOR RIGHT) -->

	<gazebo reference="hokuyo_laser_right_link">
		<sensor:ray name="hokuyo_laser_right">
			<rayCount>640</rayCount>
			<rangeCount>640</rangeCount>
			<laserCount>1</laserCount>

			<origin>0.0 0.0 0.0</origin>
			<displayRays>fan</displayRays>

			<minAngle>-130.0</minAngle>
			<maxAngle>130.0</maxAngle>

			<minRange>0.05</minRange>
			<maxRange>30.1</maxRange>
			<resRange>0.001</resRange>
			<updateRate>10.0</updateRate>
			<controller:gazebo_ros_laser
				name="gazebo_ros_hokuyo_laser_controller02"
				plugin="libgazebo_ros_laser.so"
			>
				<gaussianNoise>0.005</gaussianNoise>
				<alwaysOn>true</alwaysOn>
				<updateRate>10.0</updateRate>
				<!--topicName>hokuyo_laser_right_topic</topicName -->
				<topicName>scan_rear0</topicName>
				<frameName>hokuyo_laser_right_link</frameName>
				<interface:laser name="gazebo_ros_hokuyo_laser_iface02" />
			</controller:gazebo_ros_laser>
		</sensor:ray>
	</gazebo>

	<!-- Other controllers (IMU SENSOR) -->

	<gazebo>
		<material>Gazebo/Green</material>
		<turnGravityOff>false</turnGravityOff>
		<controller:gazebo_ros_imu
			name="imu_controller"
			plugin="libgazebo_ros_imu.so"
		>
			<alwaysOn>true</alwaysOn>
			<updateRate>50.0</updateRate> <!-- 100 -->
			<bodyName>imu_link</bodyName>
			<topicName>imu_data</topicName>
			<gaussianNoise>2.89e-08</gaussianNoise>
			<xyzOffsets>0 0 0</xyzOffsets>
			<rpyOffsets>0 0 0</rpyOffsets>
			<interface:position name="imu_position" />
		</controller:gazebo_ros_imu>
	</gazebo>


	<!-- GAZEBO MATERIALS -->
	<gazebo reference="base_footprint">
		<material>Green</material>
		<turnGravityOff>false</turnGravityOff>
	</gazebo>
	<gazebo reference="base_footprint_back_axis">
		<material>Gazebo/Green</material>
		<turnGravityOff>false</turnGravityOff>
	</gazebo>
	<gazebo reference="base_link">
		<material>Gazebo/Green</material>
		<turnGravityOff>false</turnGravityOff>
	</gazebo>
	<gazebo reference="chassis_01">
		<material>Gazebo/Green</material>
		<turnGravityOff>false</turnGravityOff>
	</gazebo>
	<gazebo reference="chassis_02">
		<material>Gazebo/Green</material>
		<turnGravityOff>false</turnGravityOff>
	</gazebo>
	<gazebo reference="chassis_03">
		<material>Gazebo/Green</material>
		<turnGravityOff>false</turnGravityOff>
	</gazebo>
	<gazebo reference="chassis_04">
		<material>Gazebo/Green</material>
		<turnGravityOff>false</turnGravityOff>
	</gazebo>
	<gazebo reference="chassis_05">
		<material>Gazebo/Green</material>
		<turnGravityOff>false</turnGravityOff>
	</gazebo>
	<gazebo reference="chassis_06">
		<material>Gazebo/Green</material>
		<turnGravityOff>false</turnGravityOff>
	</gazebo>
	<gazebo reference="chassis_07">
		<material>Gazebo/Green</material>
		<turnGravityOff>false</turnGravityOff>
	</gazebo>
	<gazebo reference="chassis_08">
		<material>Gazebo/Grey</material>
		<turnGravityOff>false</turnGravityOff>
	</gazebo>
	<gazebo reference="chassis_09">
		<material>Gazebo/Green</material>
		<turnGravityOff>false</turnGravityOff>
	</gazebo>
	<gazebo reference="chassis_10">
		<material>Gazebo/Green</material>
		<turnGravityOff>false</turnGravityOff>
	</gazebo>
	<gazebo reference="chassis_11">
		<material>Gazebo/Green</material>
		<turnGravityOff>false</turnGravityOff>
	</gazebo>
	<gazebo reference="chassis_12">
		<material>Gazebo/Green</material>
		<turnGravityOff>false</turnGravityOff>
	</gazebo>

</robot>
